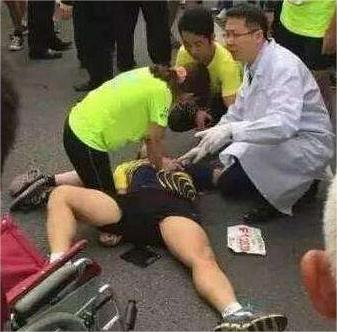bending: (7, 58, 220, 225), (193, 10, 337, 223), (165, 11, 254, 143)
down: (48, 135, 292, 332)
